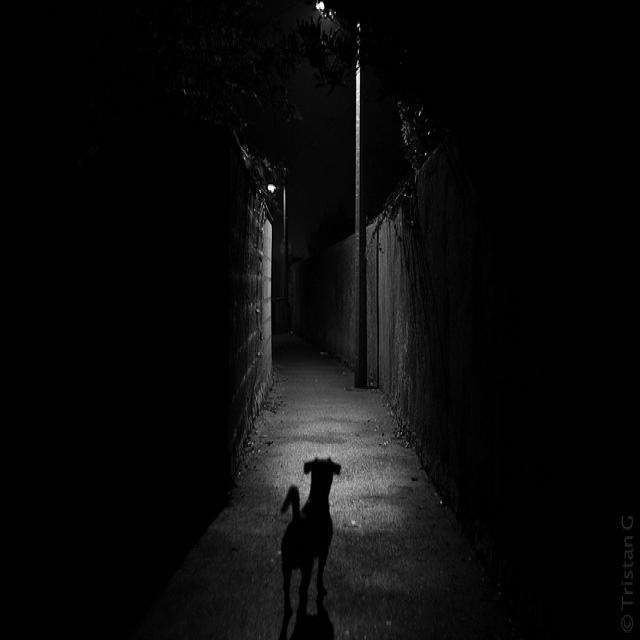dog: (247, 434, 366, 612)
